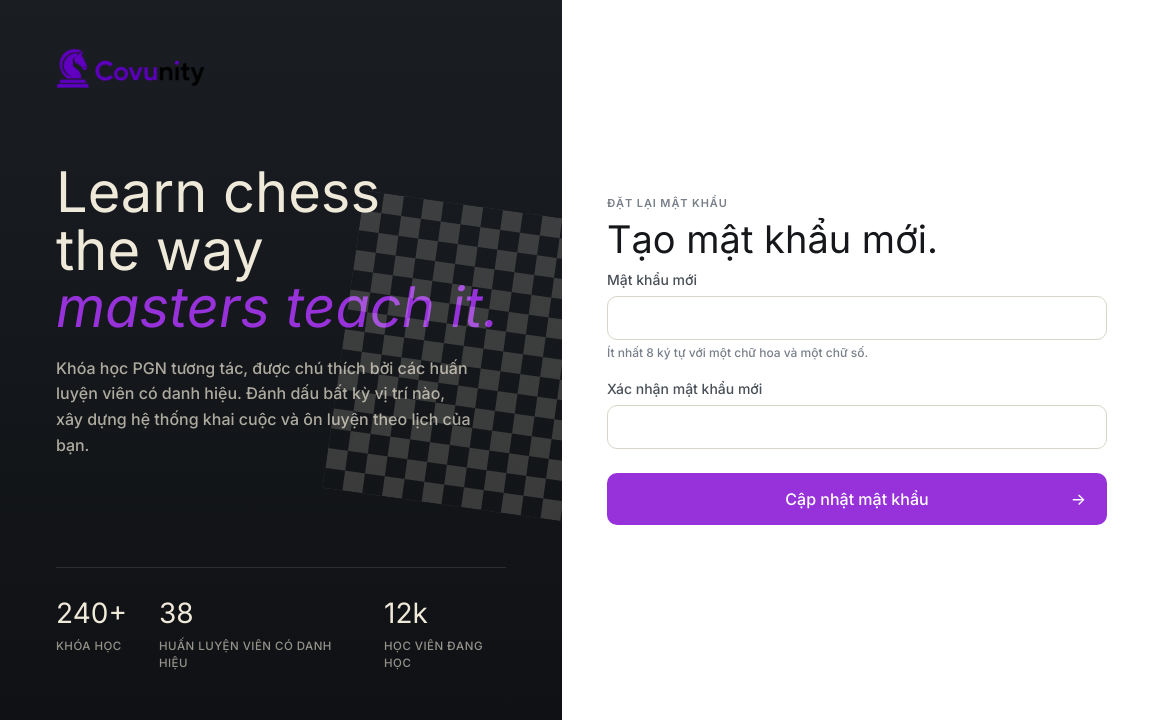
Test: ResetPasswordPage › shows passwords mismatch error
The width and height of the screenshot is (1152, 720).
Type "Password1" into the password field labelled "Mật khẩu mới" at (857,318), box [607,296,1107,340]
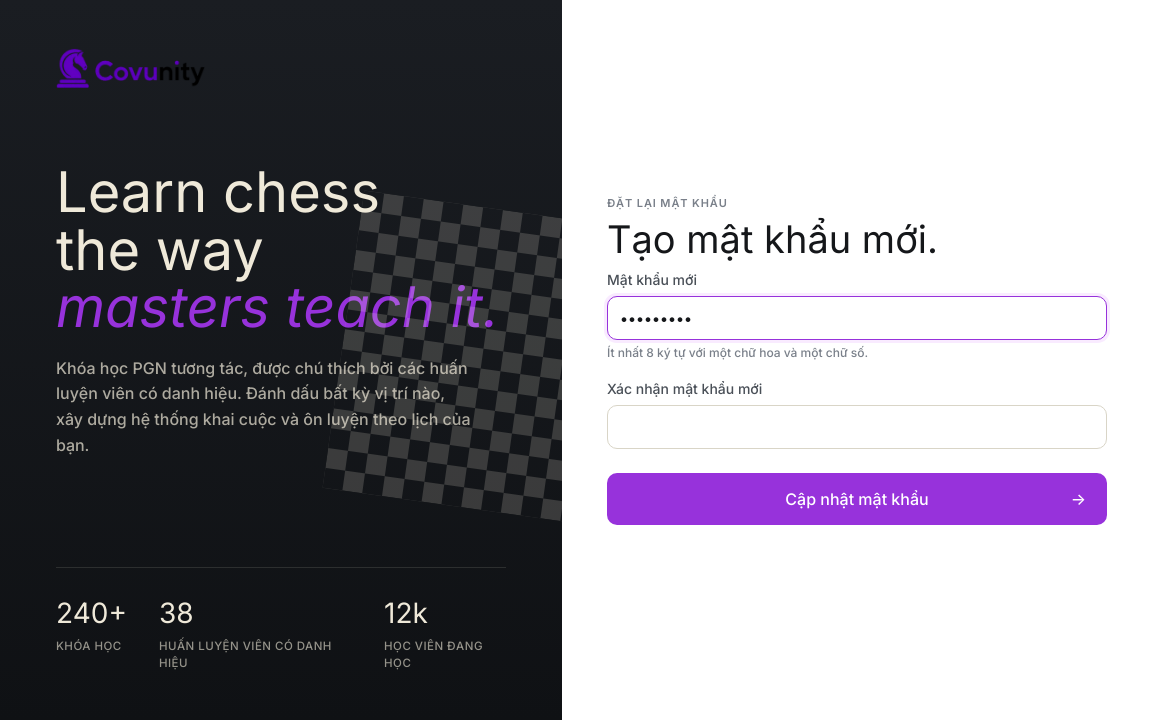
Type "Different1" into the password field labelled "Xác nhận mật khẩu mới" at (857,427), box [607,405,1107,449]
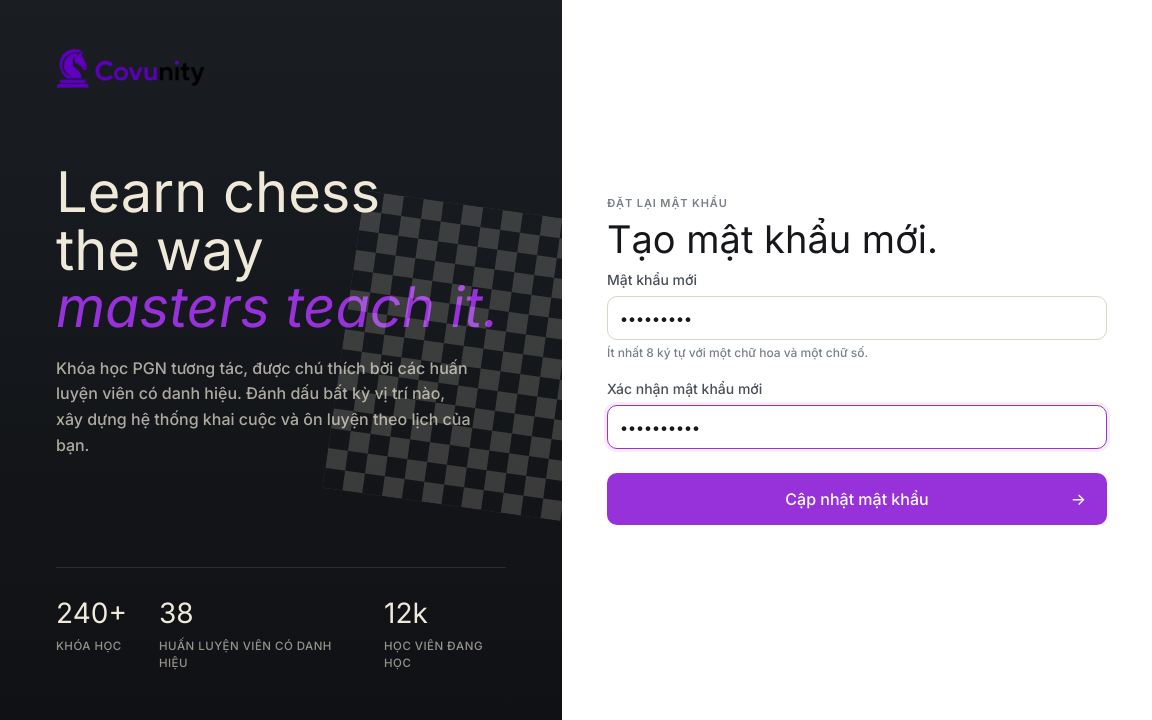
Click the button "Cập nhật mật khẩu →" at (857,499), box [607,473,1107,525]
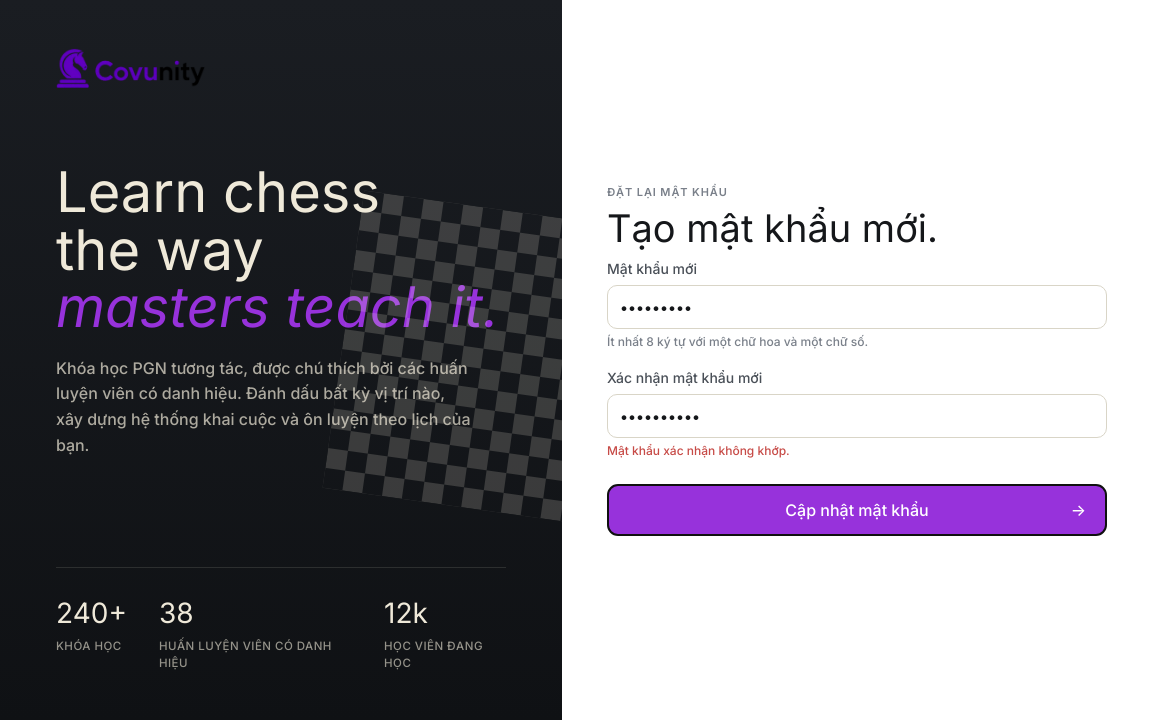
Expected: the text "Mật khẩu xác nhận không khớp." is shown, [607,443,790,458]
